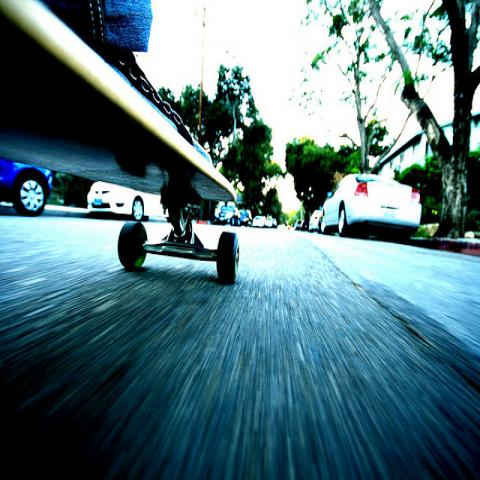car: (316, 172, 422, 241), (86, 181, 169, 222), (1, 160, 56, 216), (214, 200, 243, 227), (309, 209, 322, 233), (253, 216, 274, 228), (238, 209, 252, 227), (294, 218, 302, 230), (269, 218, 277, 228)
